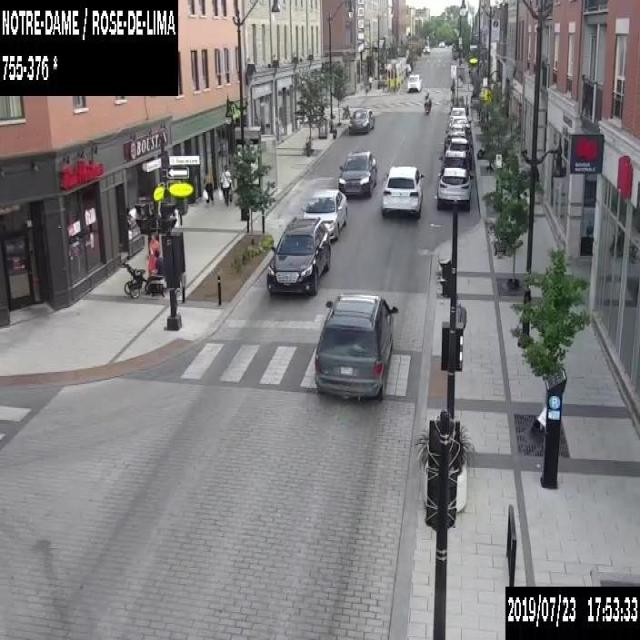pedestrian: (146, 232, 160, 274), (218, 163, 231, 206), (202, 168, 214, 205), (364, 73, 372, 95)
vehicle: (312, 291, 399, 398), (266, 216, 330, 295), (300, 188, 347, 239), (381, 165, 424, 216), (337, 149, 376, 197), (436, 167, 473, 212), (444, 136, 471, 168), (438, 149, 468, 173), (348, 107, 374, 133), (448, 115, 471, 134), (406, 73, 421, 92), (448, 106, 465, 120), (423, 91, 431, 113), (422, 45, 429, 53), (406, 62, 410, 72), (438, 40, 444, 46)
